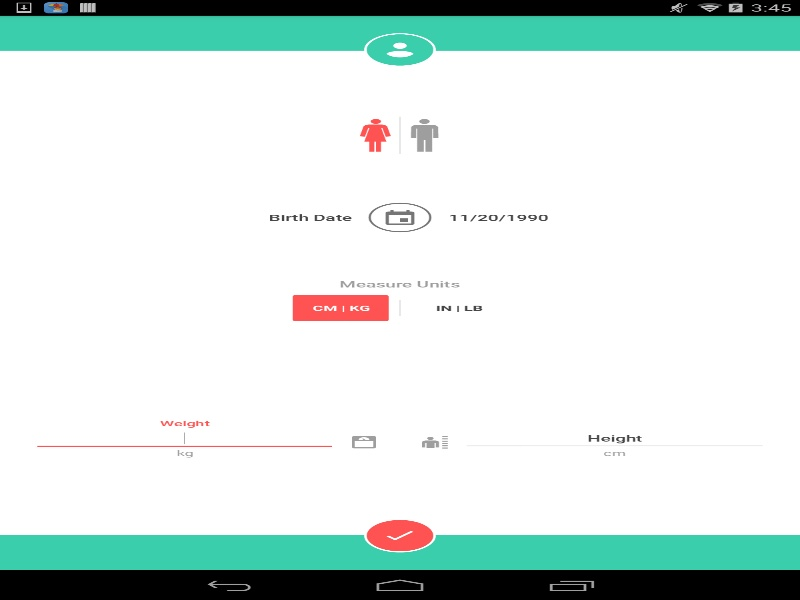Button: (292, 295, 388, 321), (411, 295, 507, 321), (355, 116, 395, 154), (404, 116, 444, 154)
Input: (461, 426, 768, 451), (32, 426, 337, 451)
